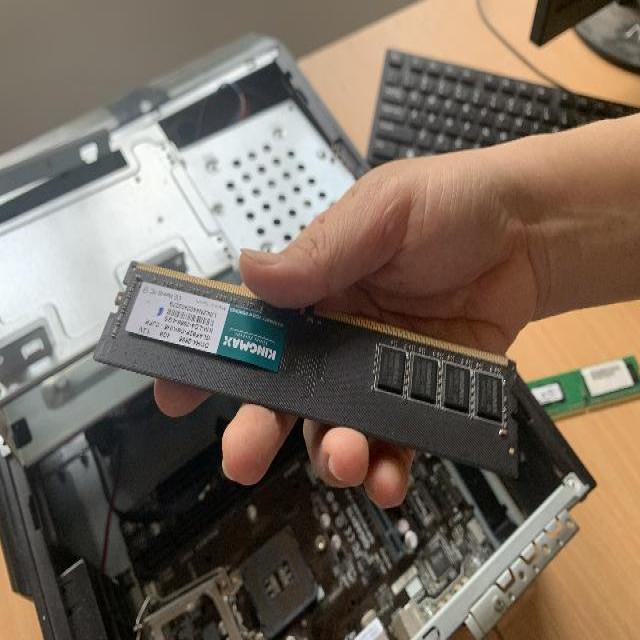RAM: (94, 252, 528, 479), (525, 351, 640, 425)
